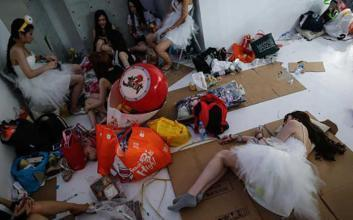Fall-Detected: (164, 102, 338, 220)
